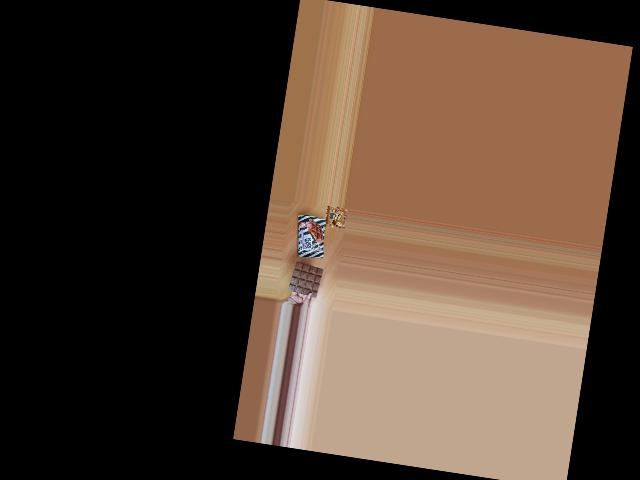chocolate: (292, 212, 328, 261)
